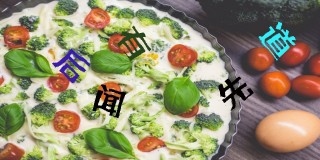先: (217, 76, 255, 110)
后: (52, 49, 90, 83)
有: (118, 26, 150, 59)
道: (258, 20, 295, 60)
闻: (92, 82, 126, 118)
